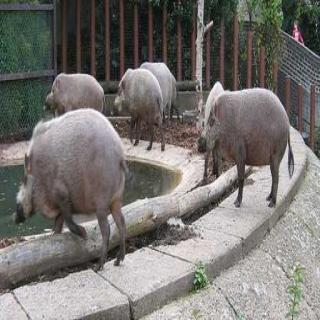Pig: (0, 110, 135, 258), (187, 86, 304, 202), (97, 57, 183, 148), (37, 59, 116, 129)
